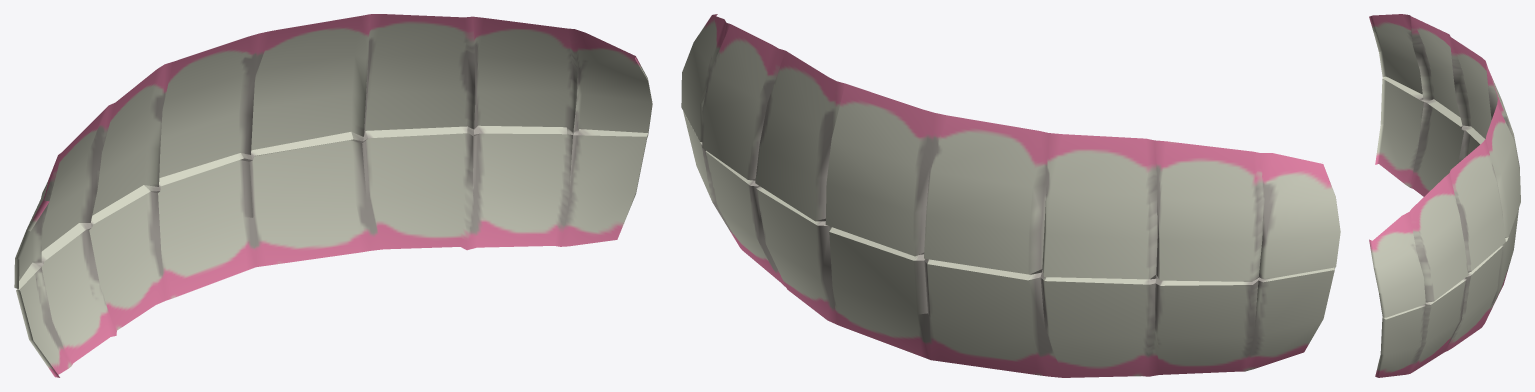
The model's file is Props_GrinningTeeth.fbx.
The picture shows the model from 3 angles, left to right: view 1: azimuth 30°, elevation 25°; view 2: azimuth 150°, elevation 25°; view 3: azimuth 270°, elevation 25°; orthographic projection. The views are drawn at different scales.
Visible parts, largest first — view 1: GrinningTheeth; view 2: GrinningTheeth; view 3: GrinningTheeth.
Part boxes in pixels (<box>): GrinningTheeth: <box>14,14,652,377</box>; GrinningTheeth: <box>681,14,1340,377</box>; GrinningTheeth: <box>1369,14,1520,377</box>.
Bounding box in the file's own units: 7.66 × 2.72 × 2.03.
